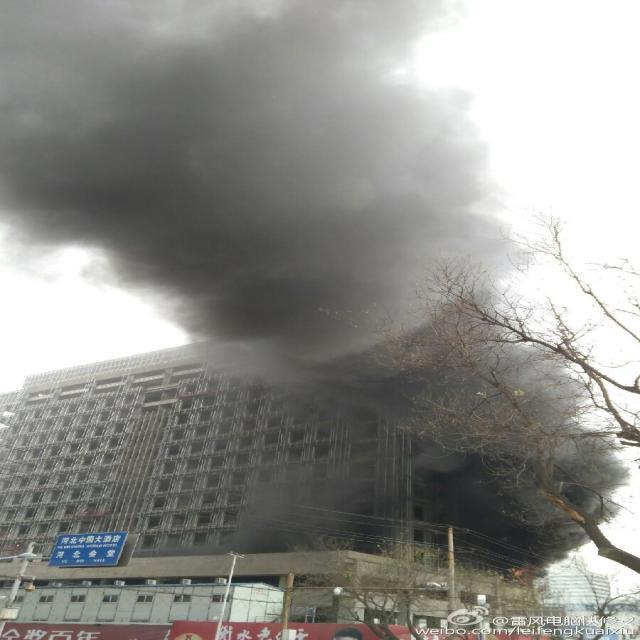Smoke: (0, 0, 529, 413), (411, 446, 640, 570), (230, 464, 382, 546)
